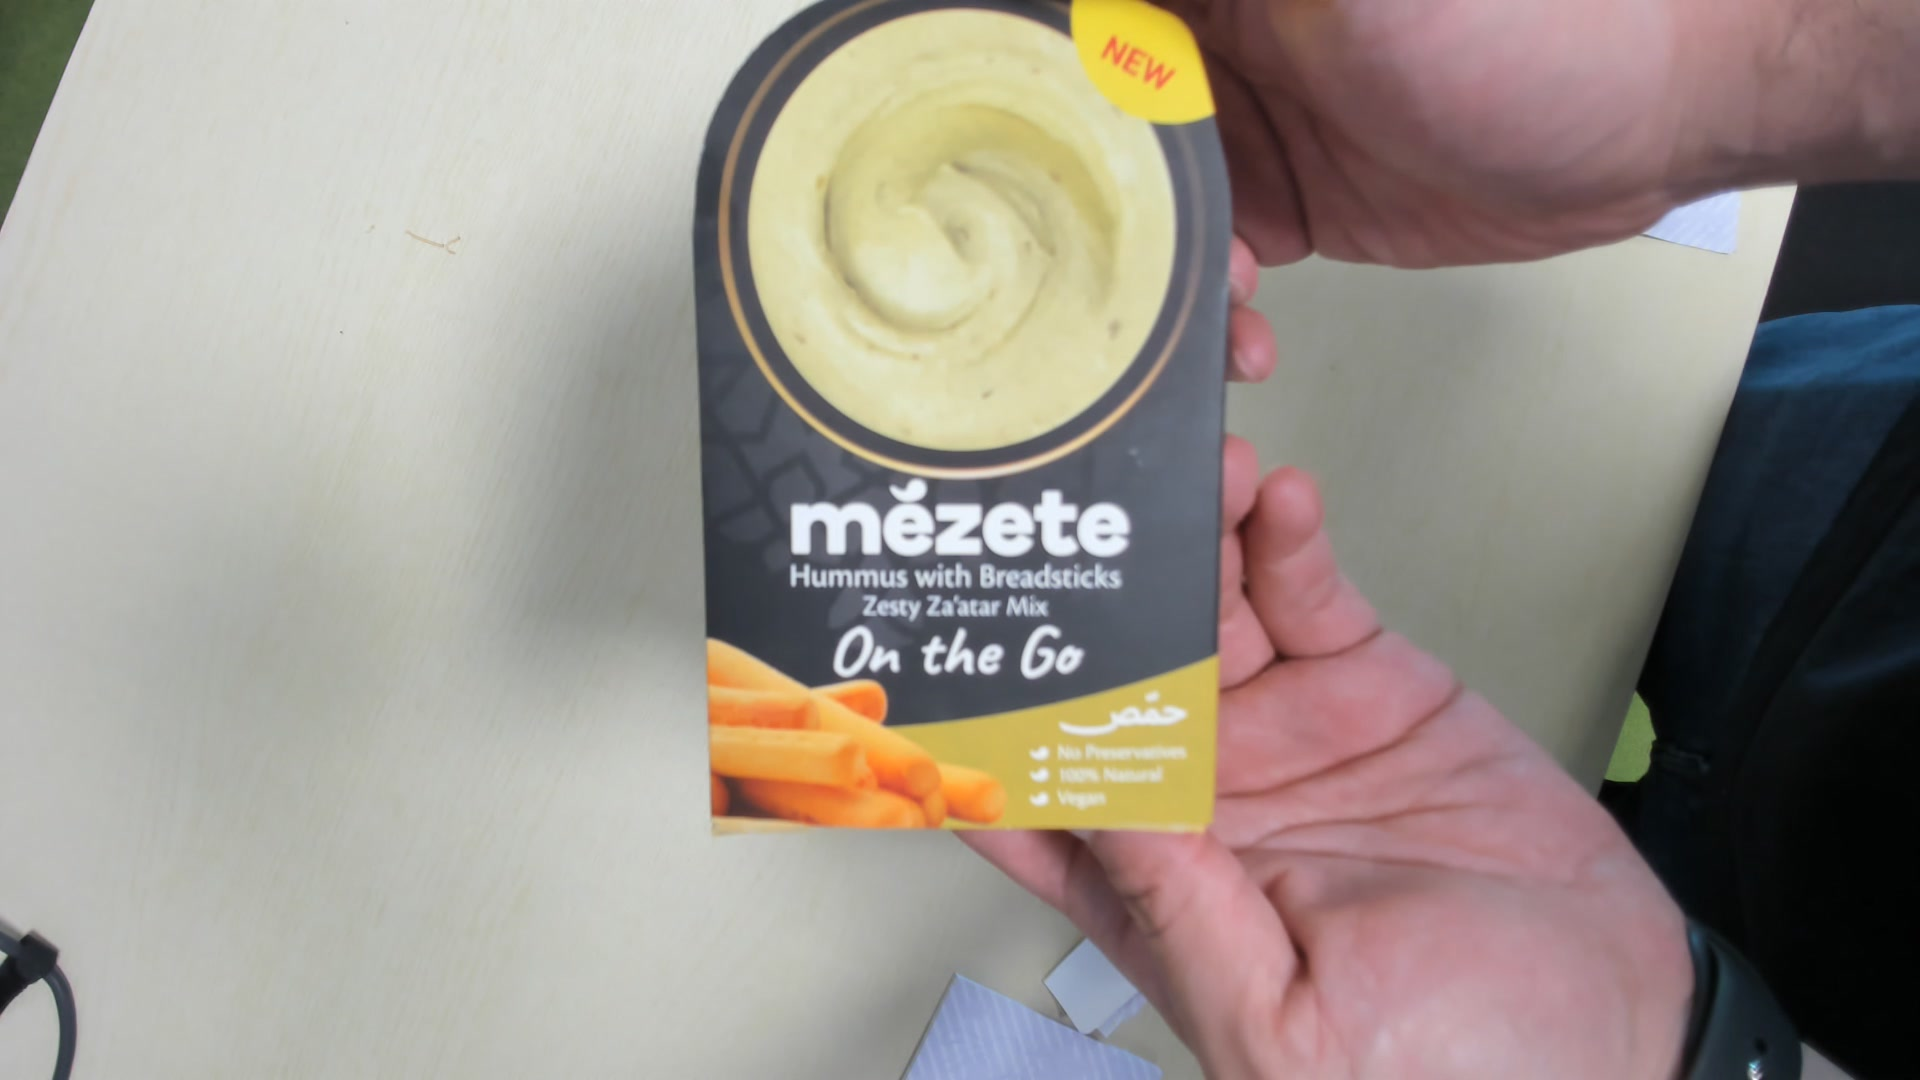InstantMeals_0-99g_NonHalal_NonHealthy: (688, 7, 1230, 841)
